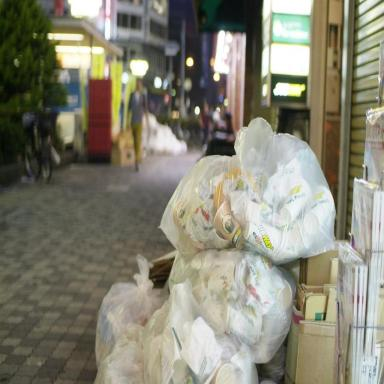plasticbag: (159, 113, 336, 268), (168, 246, 296, 362), (141, 276, 260, 383), (95, 252, 171, 368), (93, 322, 144, 383), (258, 338, 287, 383)
